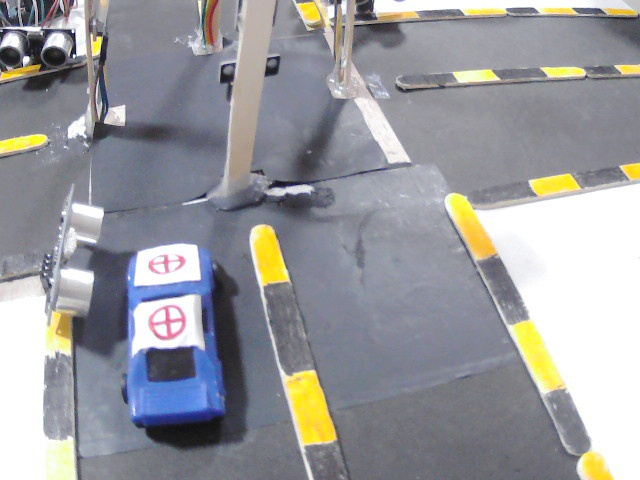emergency_vehicle: (119, 239, 226, 425)
uno_breadboard: (38, 186, 106, 329), (0, 26, 76, 69), (0, 0, 75, 27)
